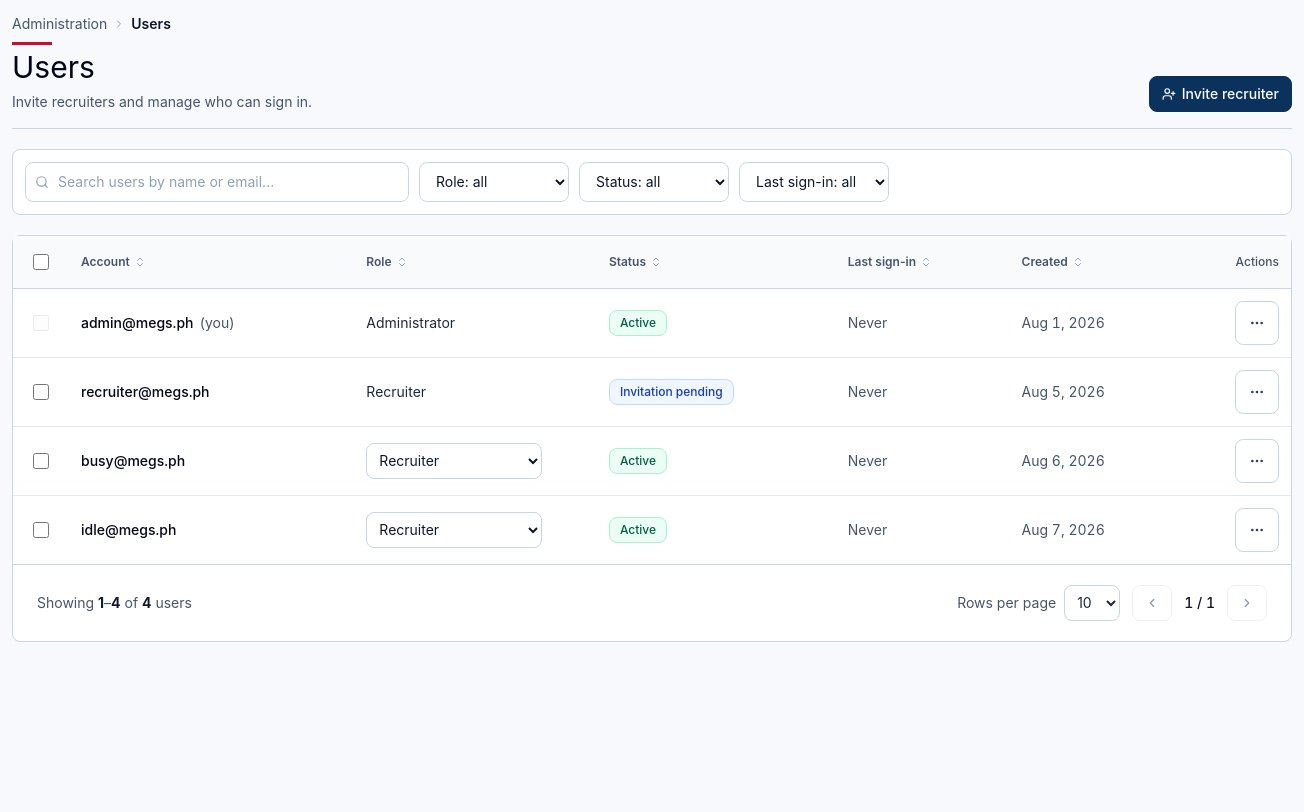
it: Users (UsersPage) › never lets an administrator deactivate their own account
Click the button named "Actions for admin@megs.ph".
click(1257, 322)  # box top-left (1235, 300), bottom-right (1279, 344)
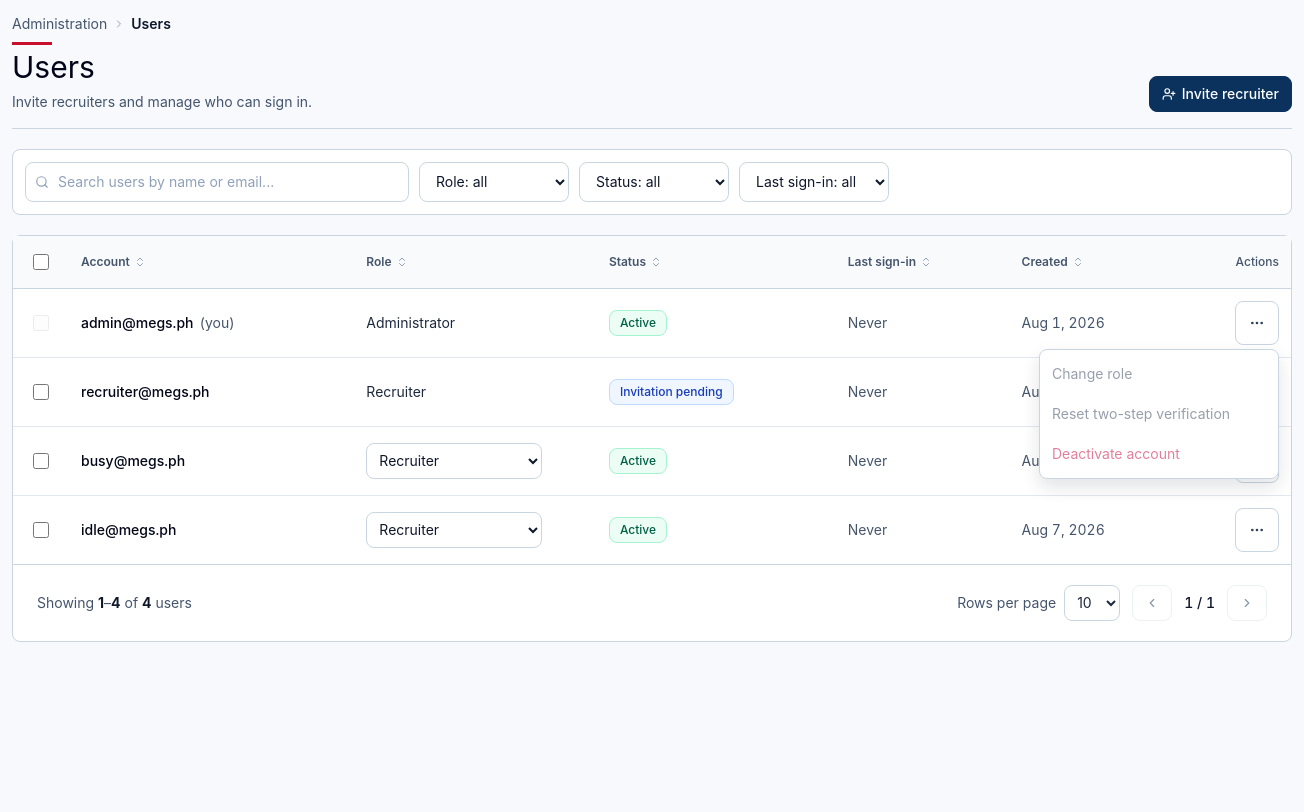
Expected: the menu item "Deactivate account" is disabled, top-left (1040, 434), bottom-right (1278, 474)
